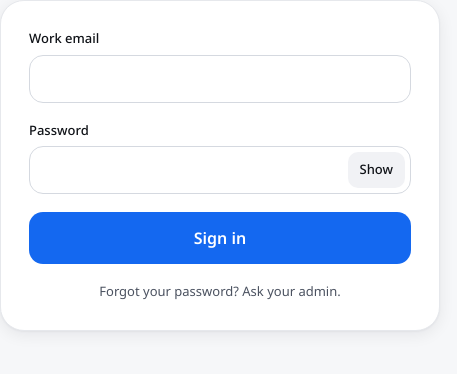
Test: SignInForm › shows the field messages from the server
Click the button "Sign in".
click(220, 238)  # box [29,212,411,264]
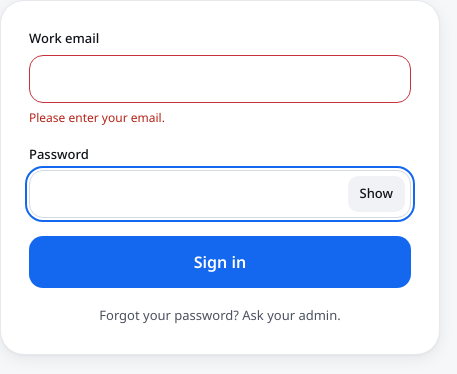
expect the text "Please enter your email." is shown: met, box [29,108,165,126]
